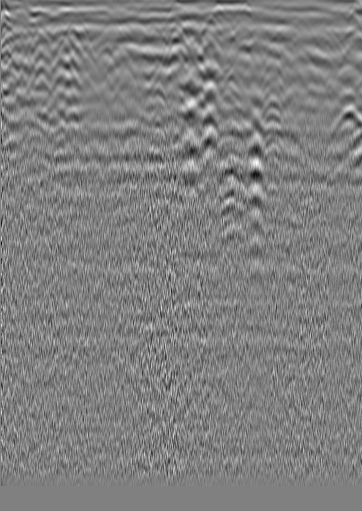가스: (213, 183, 247, 225)
상수: (292, 32, 330, 60)
오수: (26, 21, 58, 54)
우수: (174, 21, 208, 48)
